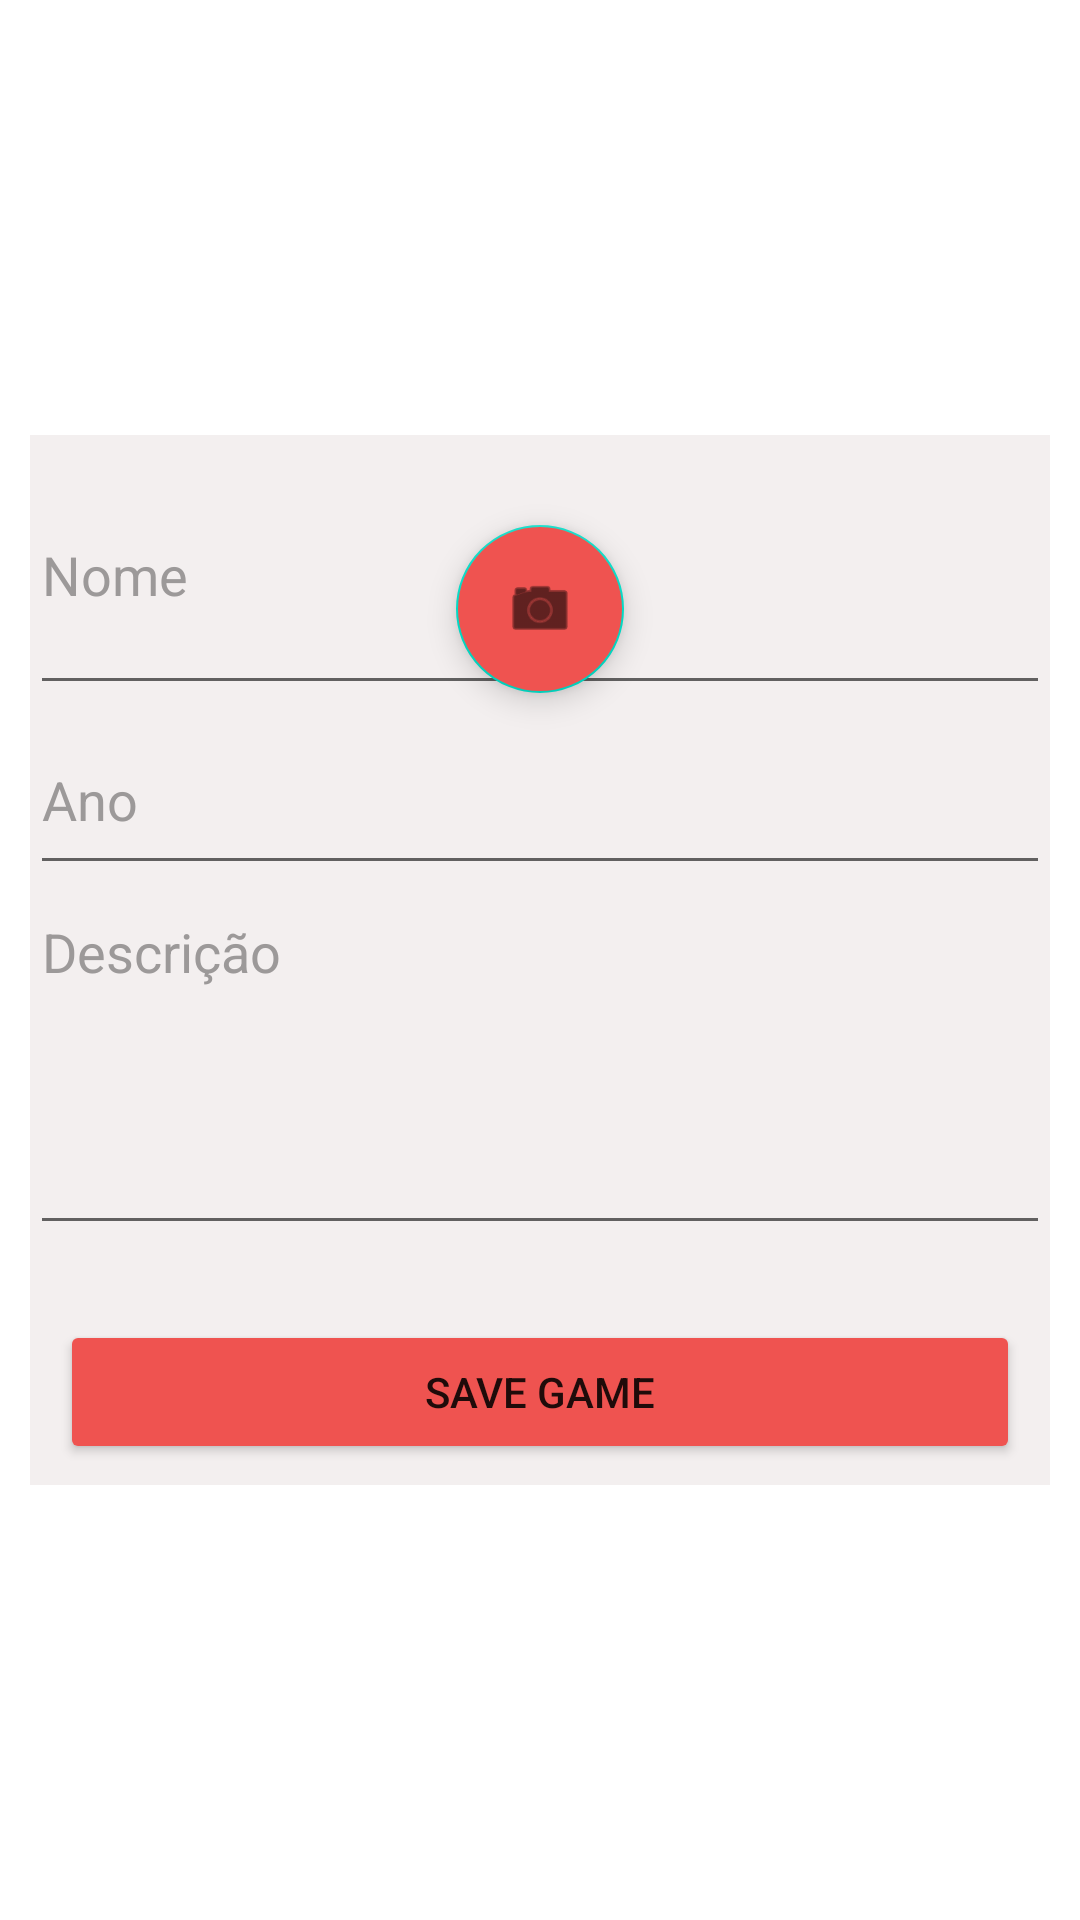

Screen size 1080 x 1920. Icon name, then its box in pixels as (x1,y1,x2,y2):
camera: (456,525,624,693)
